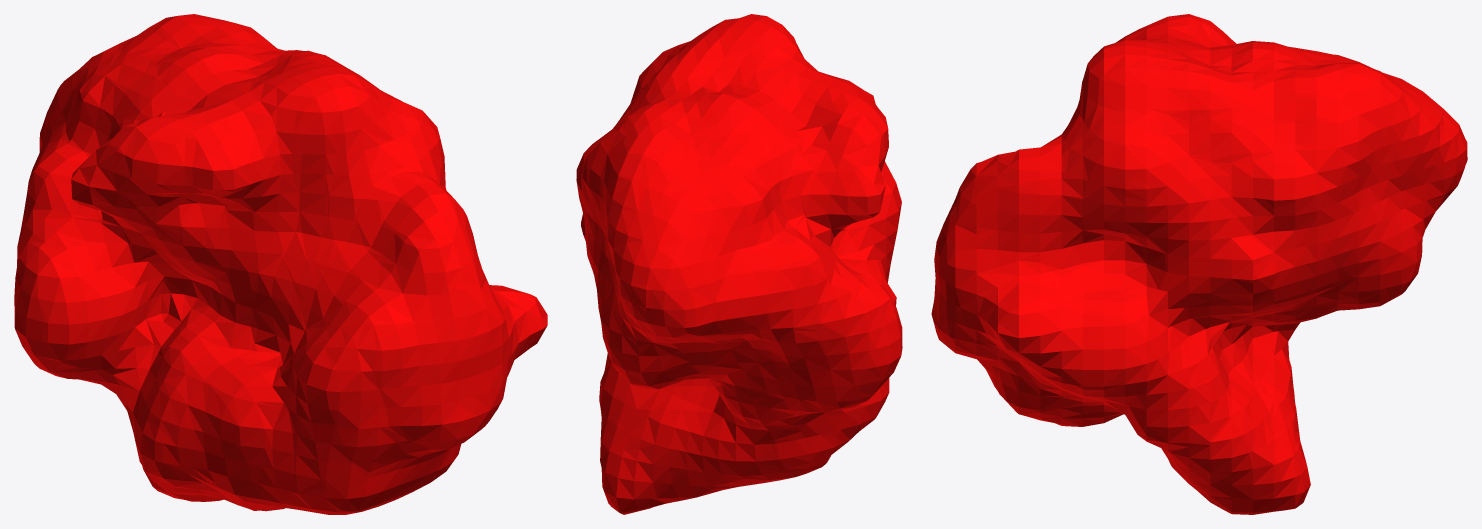
File: glcE_coarse.dae
3 renders of one model, left to right at view 1: azimuth 30°, elevation 25°; view 2: azimuth 150°, elevation 25°; view 3: azimuth 270°, elevation 25°, orthographic. The views are drawn at different scales.
Parts seen in each view (by area): view 1: glcE; view 2: glcE; view 3: glcE.
Boxes of the visible parts, box(x1,y1,x2,y2) form: glcE: box(14, 14, 547, 514); glcE: box(576, 14, 902, 514); glcE: box(931, 14, 1467, 514).
Size of the model in its own units: 53.62 by 62.83 by 68.77.
